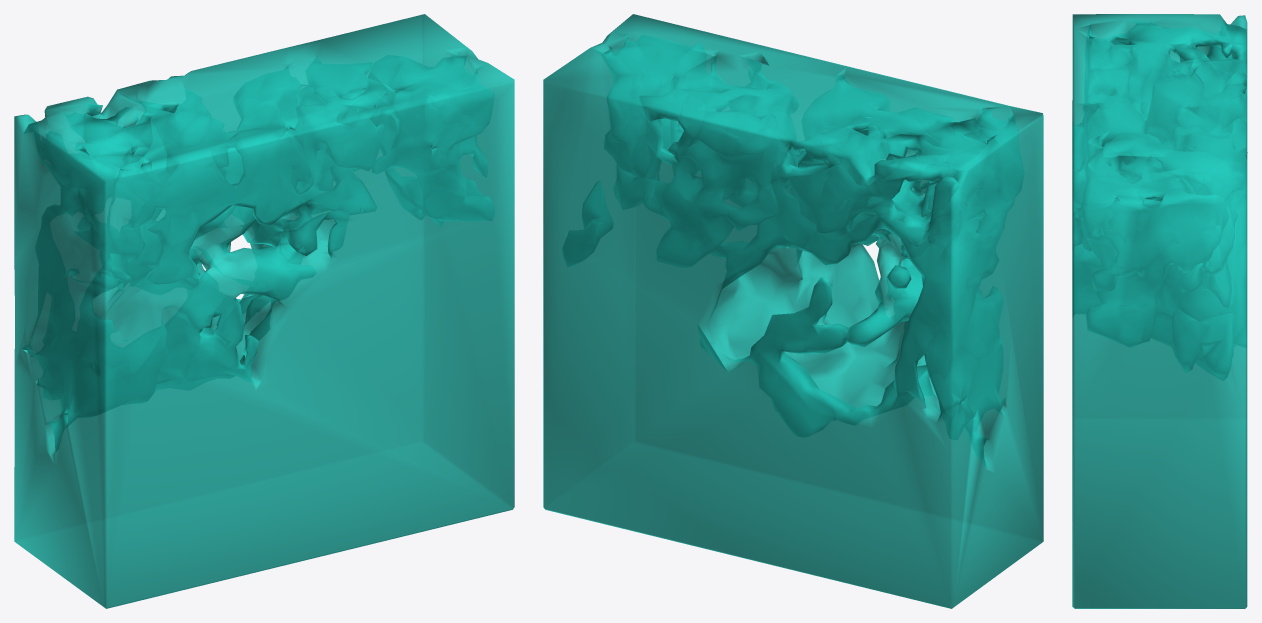
3 views of the same model, side by side, from view 1: azimuth 30°, elevation 25°; view 2: azimuth 150°, elevation 25°; view 3: azimuth 270°, elevation 25° (orthographic). The views are drawn at different scales.
Visible parts, largest first — view 1: Liquid_Domain; view 2: Liquid_Domain; view 3: Liquid_Domain.
Part boxes in pixels (x1,y1,x2,y2): Liquid_Domain: (14,14,514,608); Liquid_Domain: (543,14,1043,608); Liquid_Domain: (1072,14,1247,608).
Bounding box in the file's own units: 884 × 885 × 345.
